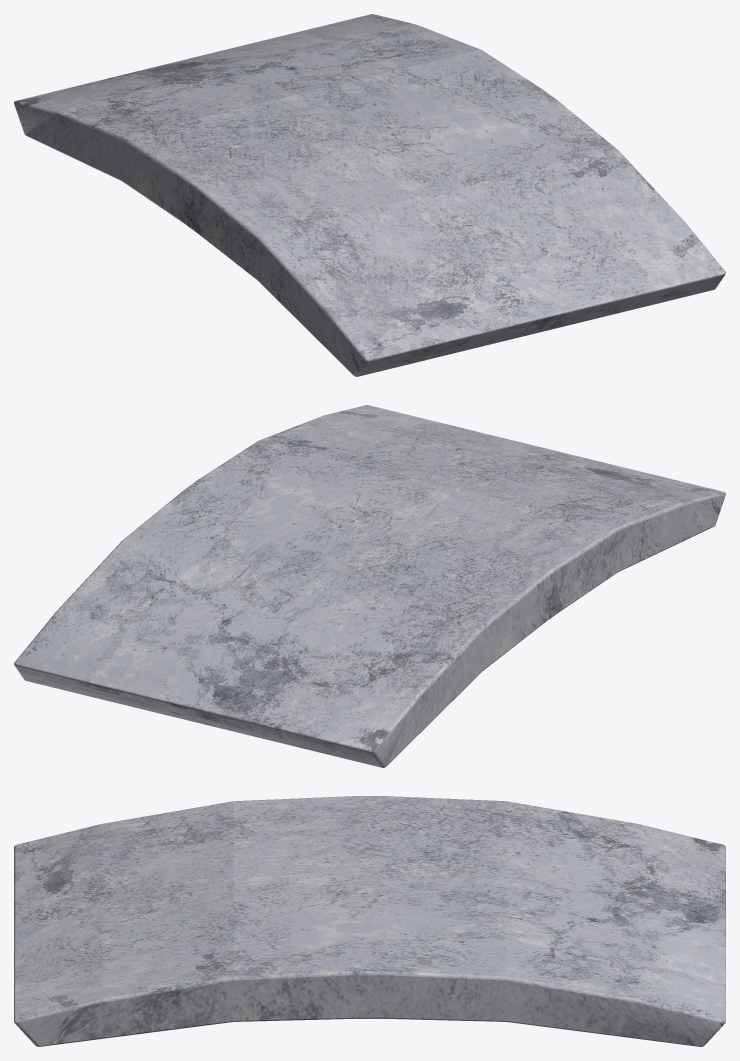
The model's file is Bridge_stone.fbx.
The picture shows the model from 3 angles, top to bottom: view 1: azimuth 30°, elevation 25°; view 2: azimuth 150°, elevation 25°; view 3: azimuth 270°, elevation 25°; orthographic projection.
Visible parts, largest first — view 1: GardenBridge_stone; view 2: GardenBridge_stone; view 3: GardenBridge_stone.
Boxes of the visible parts, x1=… form: GardenBridge_stone: x1=14, y1=14, x2=725, y2=376; GardenBridge_stone: x1=14, y1=405, x2=725, y2=767; GardenBridge_stone: x1=14, y1=796, x2=725, y2=1046.
Bounding box in the file's own units: 1301 × 258 × 2206.
1 material, 1 textured.
